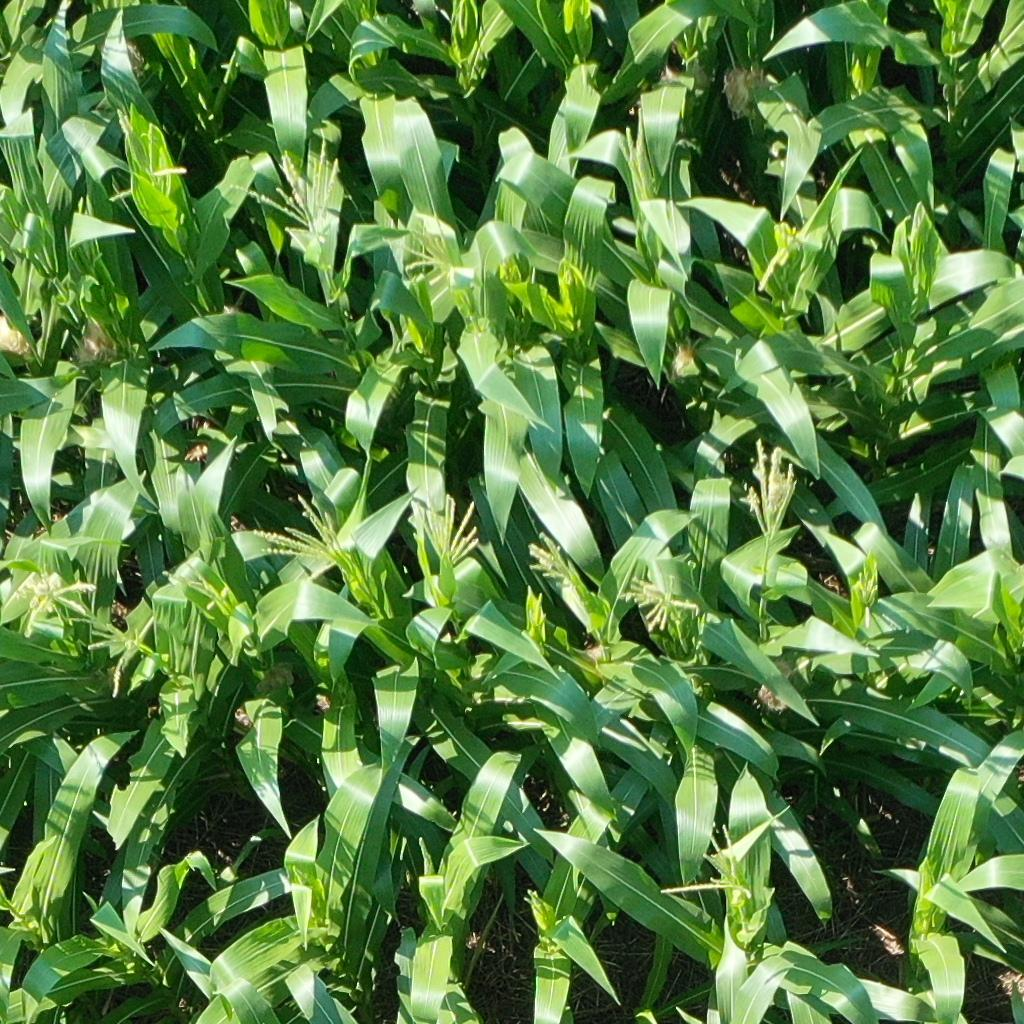Tassel: (229, 127, 342, 246), (101, 105, 188, 201), (659, 823, 756, 905), (248, 488, 350, 562), (617, 550, 699, 634), (82, 612, 159, 695), (739, 436, 799, 541), (380, 209, 456, 291), (407, 488, 485, 562), (13, 569, 96, 638), (754, 222, 823, 296), (160, 552, 228, 611), (613, 105, 658, 189), (526, 530, 581, 589), (987, 534, 1024, 599), (854, 556, 880, 603), (417, 837, 439, 874), (525, 589, 545, 624), (910, 199, 929, 232), (525, 887, 546, 910)
